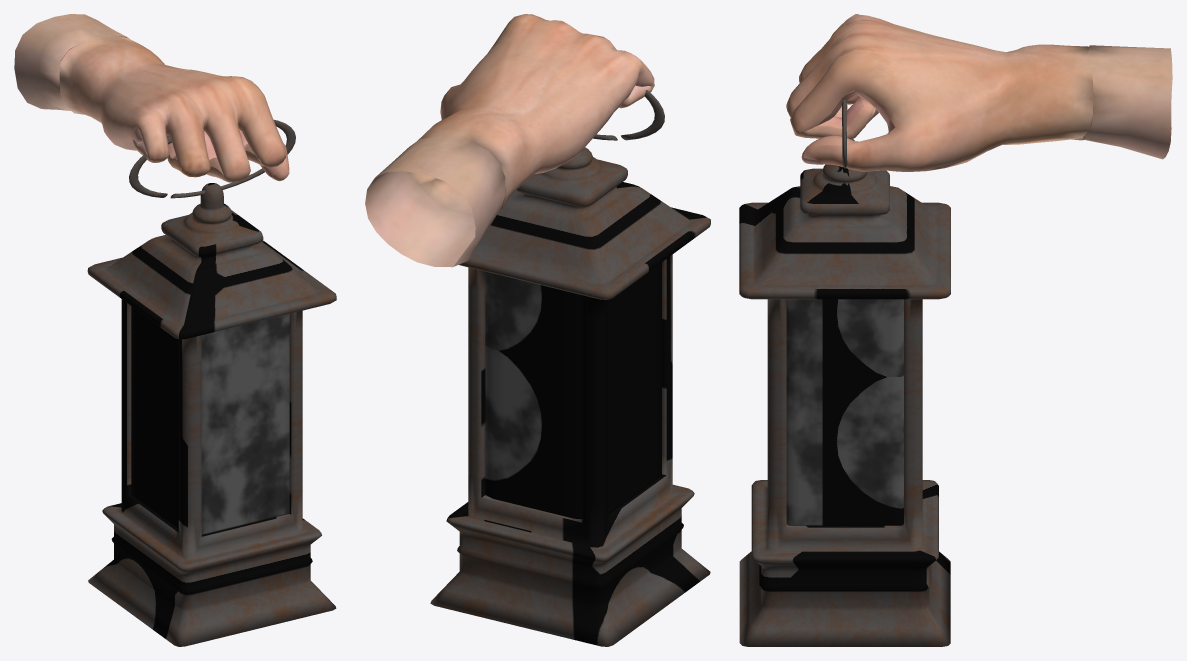
File: boxLanternHand.fbx
3 views of the same model, side by side, from view 1: azimuth 30°, elevation 25°; view 2: azimuth 150°, elevation 25°; view 3: azimuth 270°, elevation 25° (orthographic). The views are drawn at different scales.
Visible parts, largest first — view 1: Body, Glass, Hand, Handle; view 2: Body, Hand, Glass, Handle; view 3: Body, Hand, Glass.
Part boxes in pixels (bbox=[...]): Body: bbox=[87, 183, 336, 646]; Glass: bbox=[131, 306, 289, 534]; Hand: bbox=[14, 14, 289, 182]; Handle: bbox=[129, 120, 295, 198]; Body: bbox=[430, 147, 710, 646]; Hand: bbox=[365, 14, 654, 267]; Glass: bbox=[485, 262, 661, 519]; Handle: bbox=[593, 90, 664, 140]; Body: bbox=[739, 139, 950, 646]; Hand: bbox=[786, 14, 1172, 171]; Glass: bbox=[786, 299, 903, 525].
Size of the model in its own units: 11.17 by 32.15 by 22.13.
